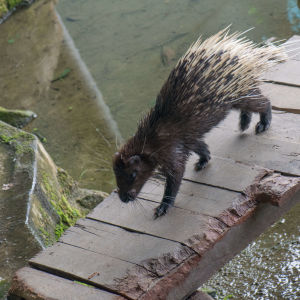porcupine: (92, 24, 280, 224)
